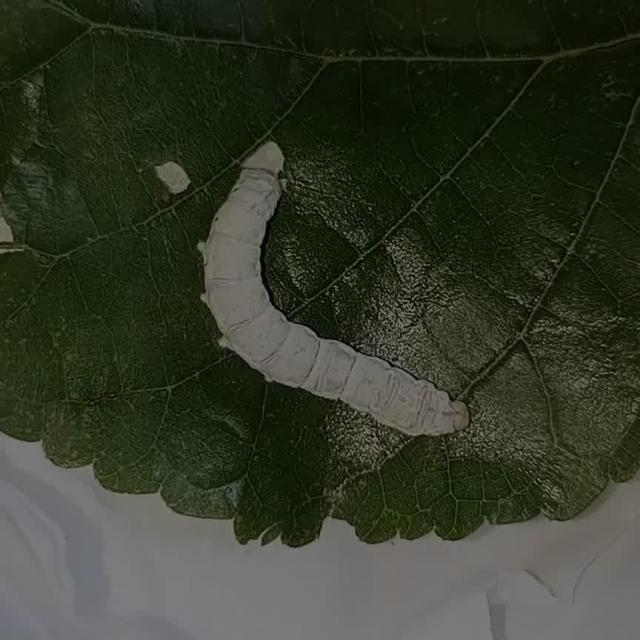Healthy: (178, 123, 480, 468)
